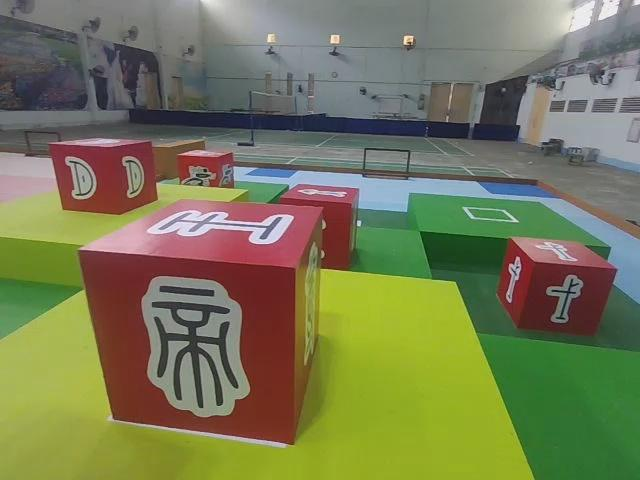R1: (177, 147, 235, 192)
R2 Fake: (77, 195, 325, 452)
R2 Real: (492, 234, 620, 338), (49, 134, 159, 215)
